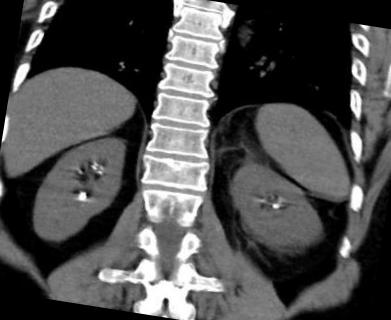Tas_Var: (74, 189, 88, 203), (271, 200, 280, 210), (88, 164, 97, 170), (96, 164, 105, 170), (95, 169, 103, 175), (92, 160, 98, 167)
